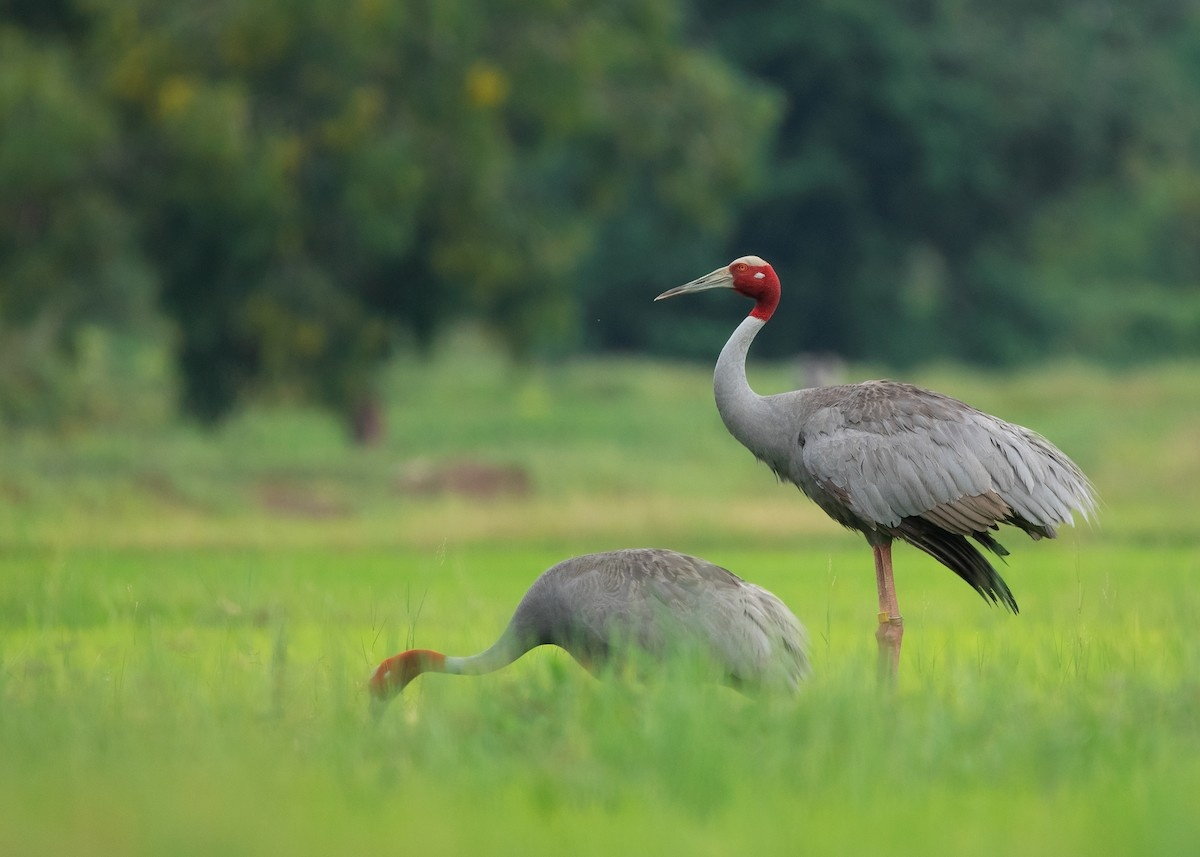crane: (648, 244, 1077, 702), (359, 549, 817, 724)
